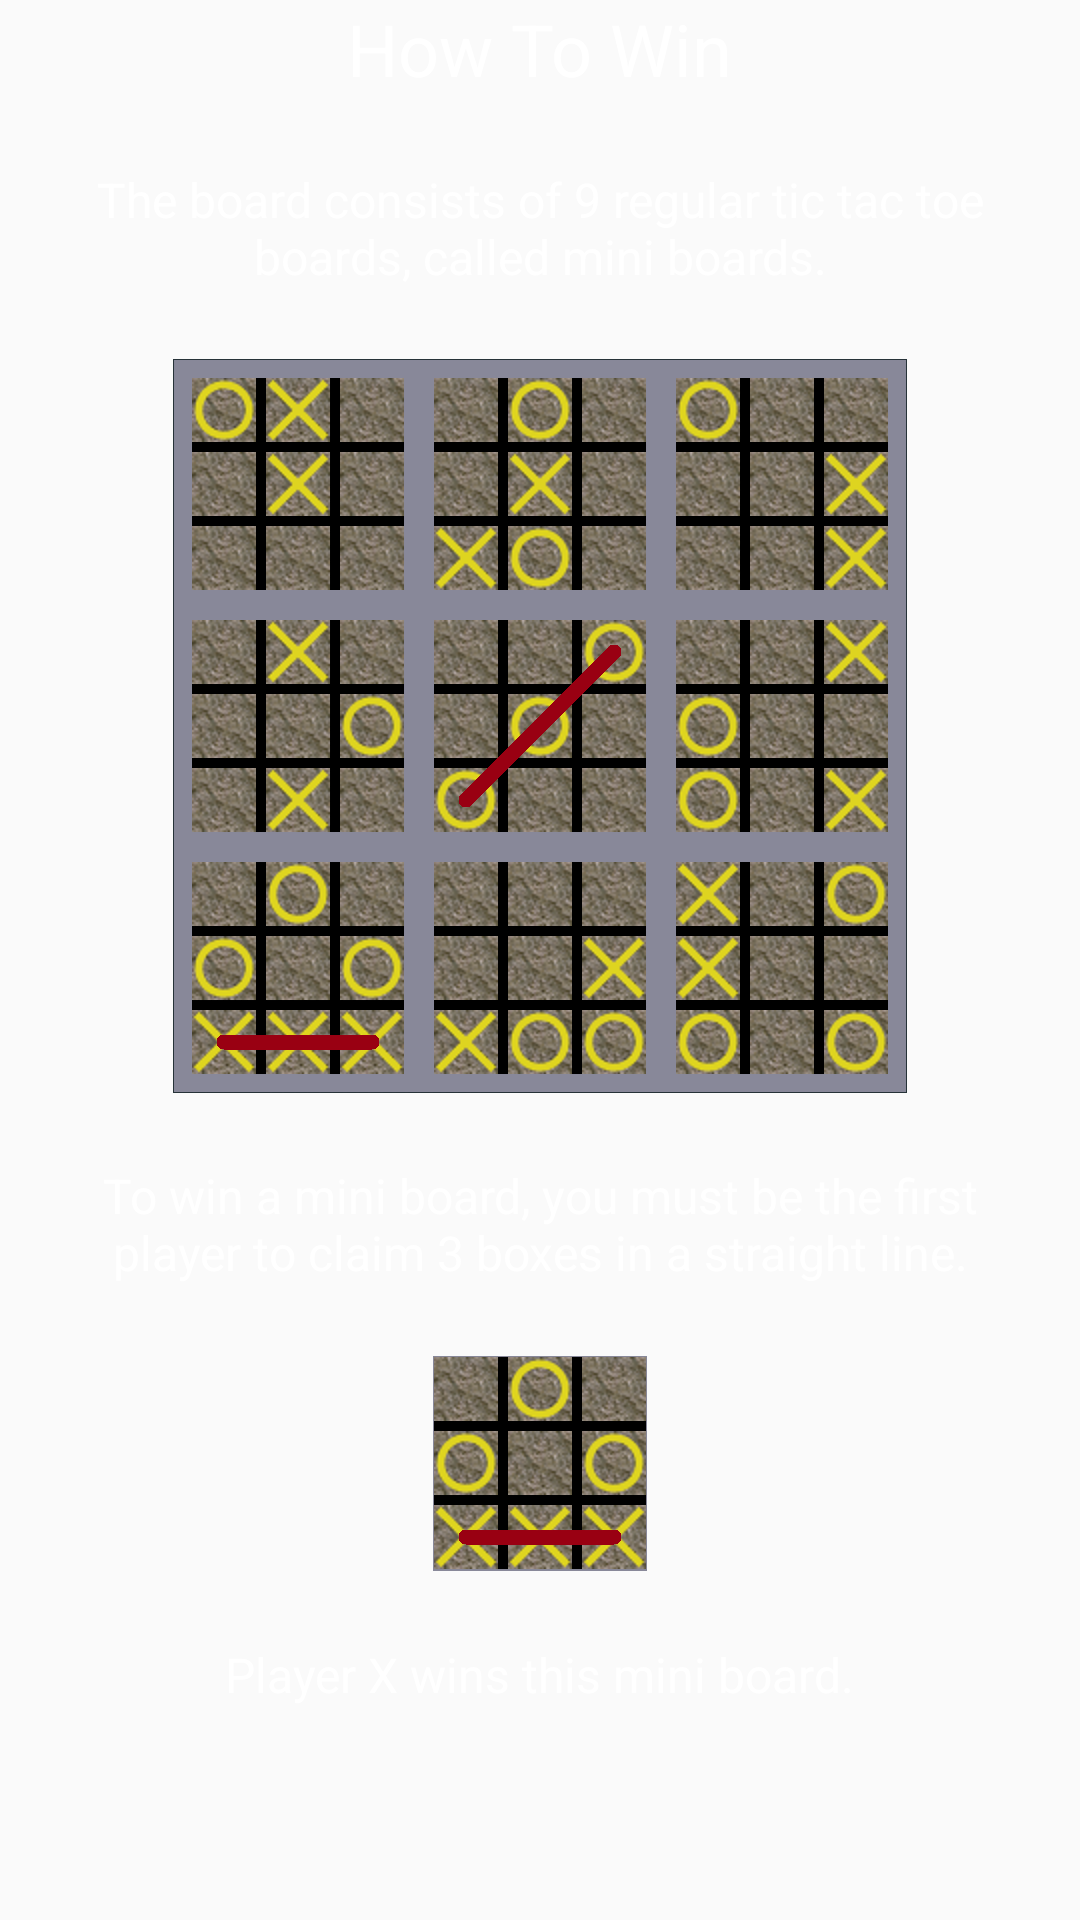

Named icons in this screenshot (1080 x 1920) and their bounding boxes, (x1,y1,x2,y2):
how to win one: (433,1356,647,1571)
